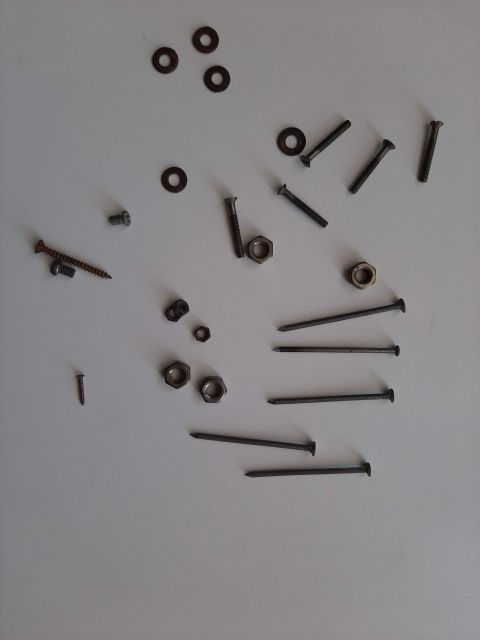gwozdz: (265, 275, 415, 325), (265, 365, 395, 415), (245, 445, 365, 475), (195, 425, 315, 455), (285, 335, 405, 365)
nakretka: (135, 355, 205, 395), (185, 365, 255, 405), (325, 255, 395, 295), (235, 235, 305, 275)
podkladka: (135, 35, 185, 75), (185, 15, 235, 55), (185, 55, 235, 95), (145, 155, 195, 195), (155, 285, 205, 325)
sruba: (385, 95, 455, 185), (335, 125, 395, 205), (45, 335, 105, 415), (295, 95, 365, 155), (265, 175, 335, 235), (205, 185, 245, 265), (95, 185, 135, 245)
